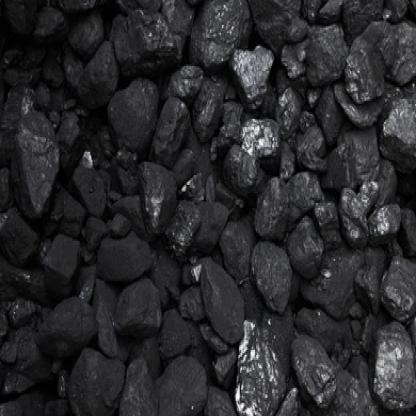Sedimentary_coal: (234, 315, 289, 413), (104, 72, 162, 154), (12, 122, 58, 213), (368, 319, 412, 414), (199, 252, 242, 347), (188, 3, 250, 68), (337, 23, 384, 104), (66, 343, 123, 406), (95, 233, 158, 287), (35, 230, 84, 297), (249, 235, 294, 306), (154, 352, 200, 410), (118, 281, 164, 332)
